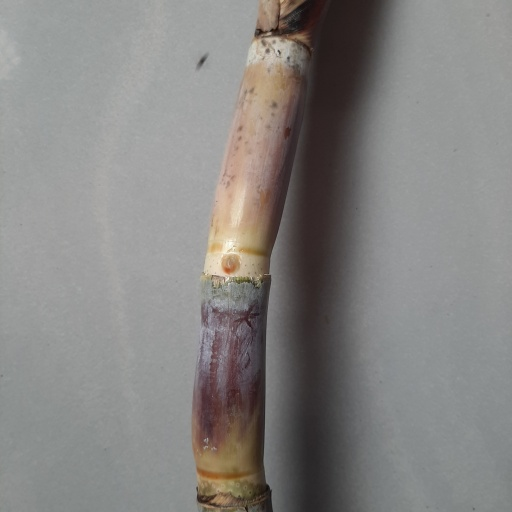Bud: (219, 252, 243, 273)
